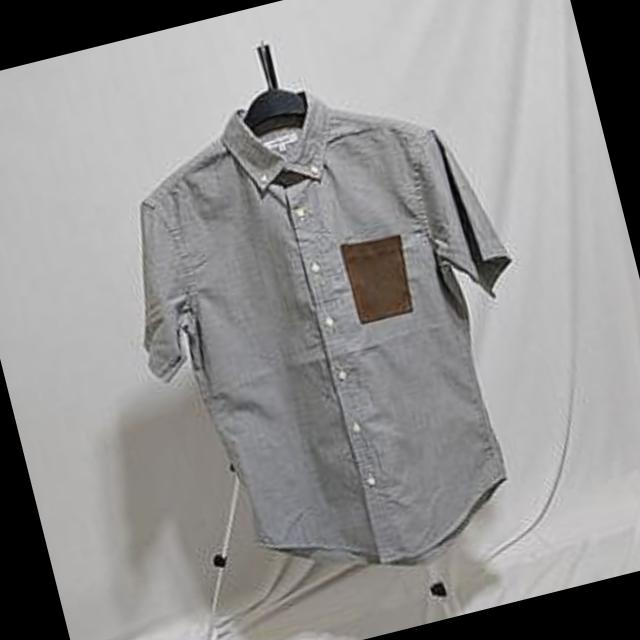SHIRT: (68, 32, 598, 619)
